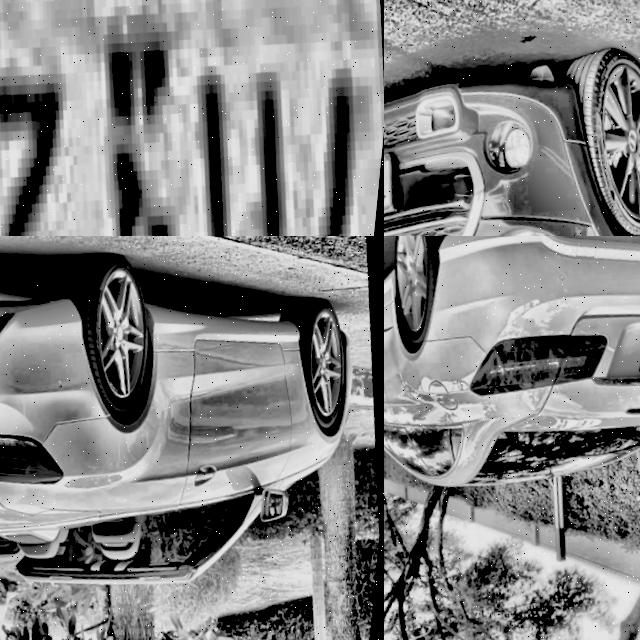license-plate: (0, 0, 384, 236), (384, 142, 408, 233)
